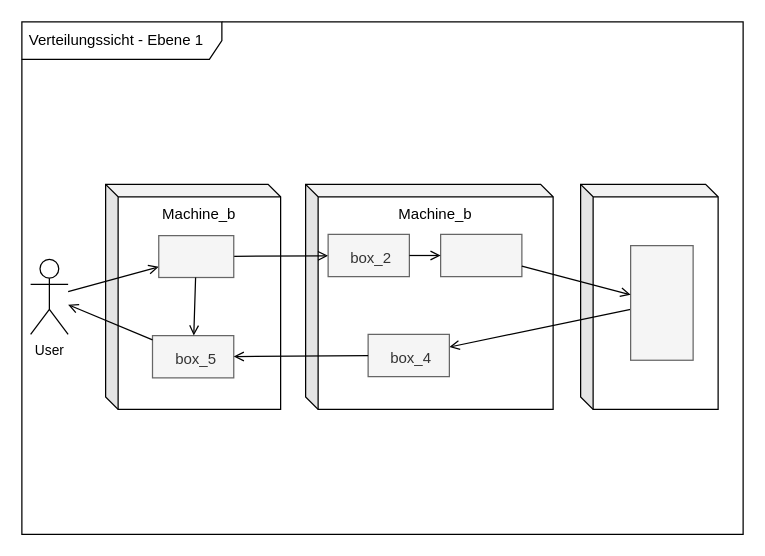
Image size: 765x556. Some labels were removed from this diagram. Here are the shapes that lost their labels. From the top down, the box of each, then its label:
(158, 234, 234, 278): box_1
(439, 233, 522, 277): box_3
(579, 183, 718, 409): Machine_c
(629, 244, 693, 360): Neighbor
